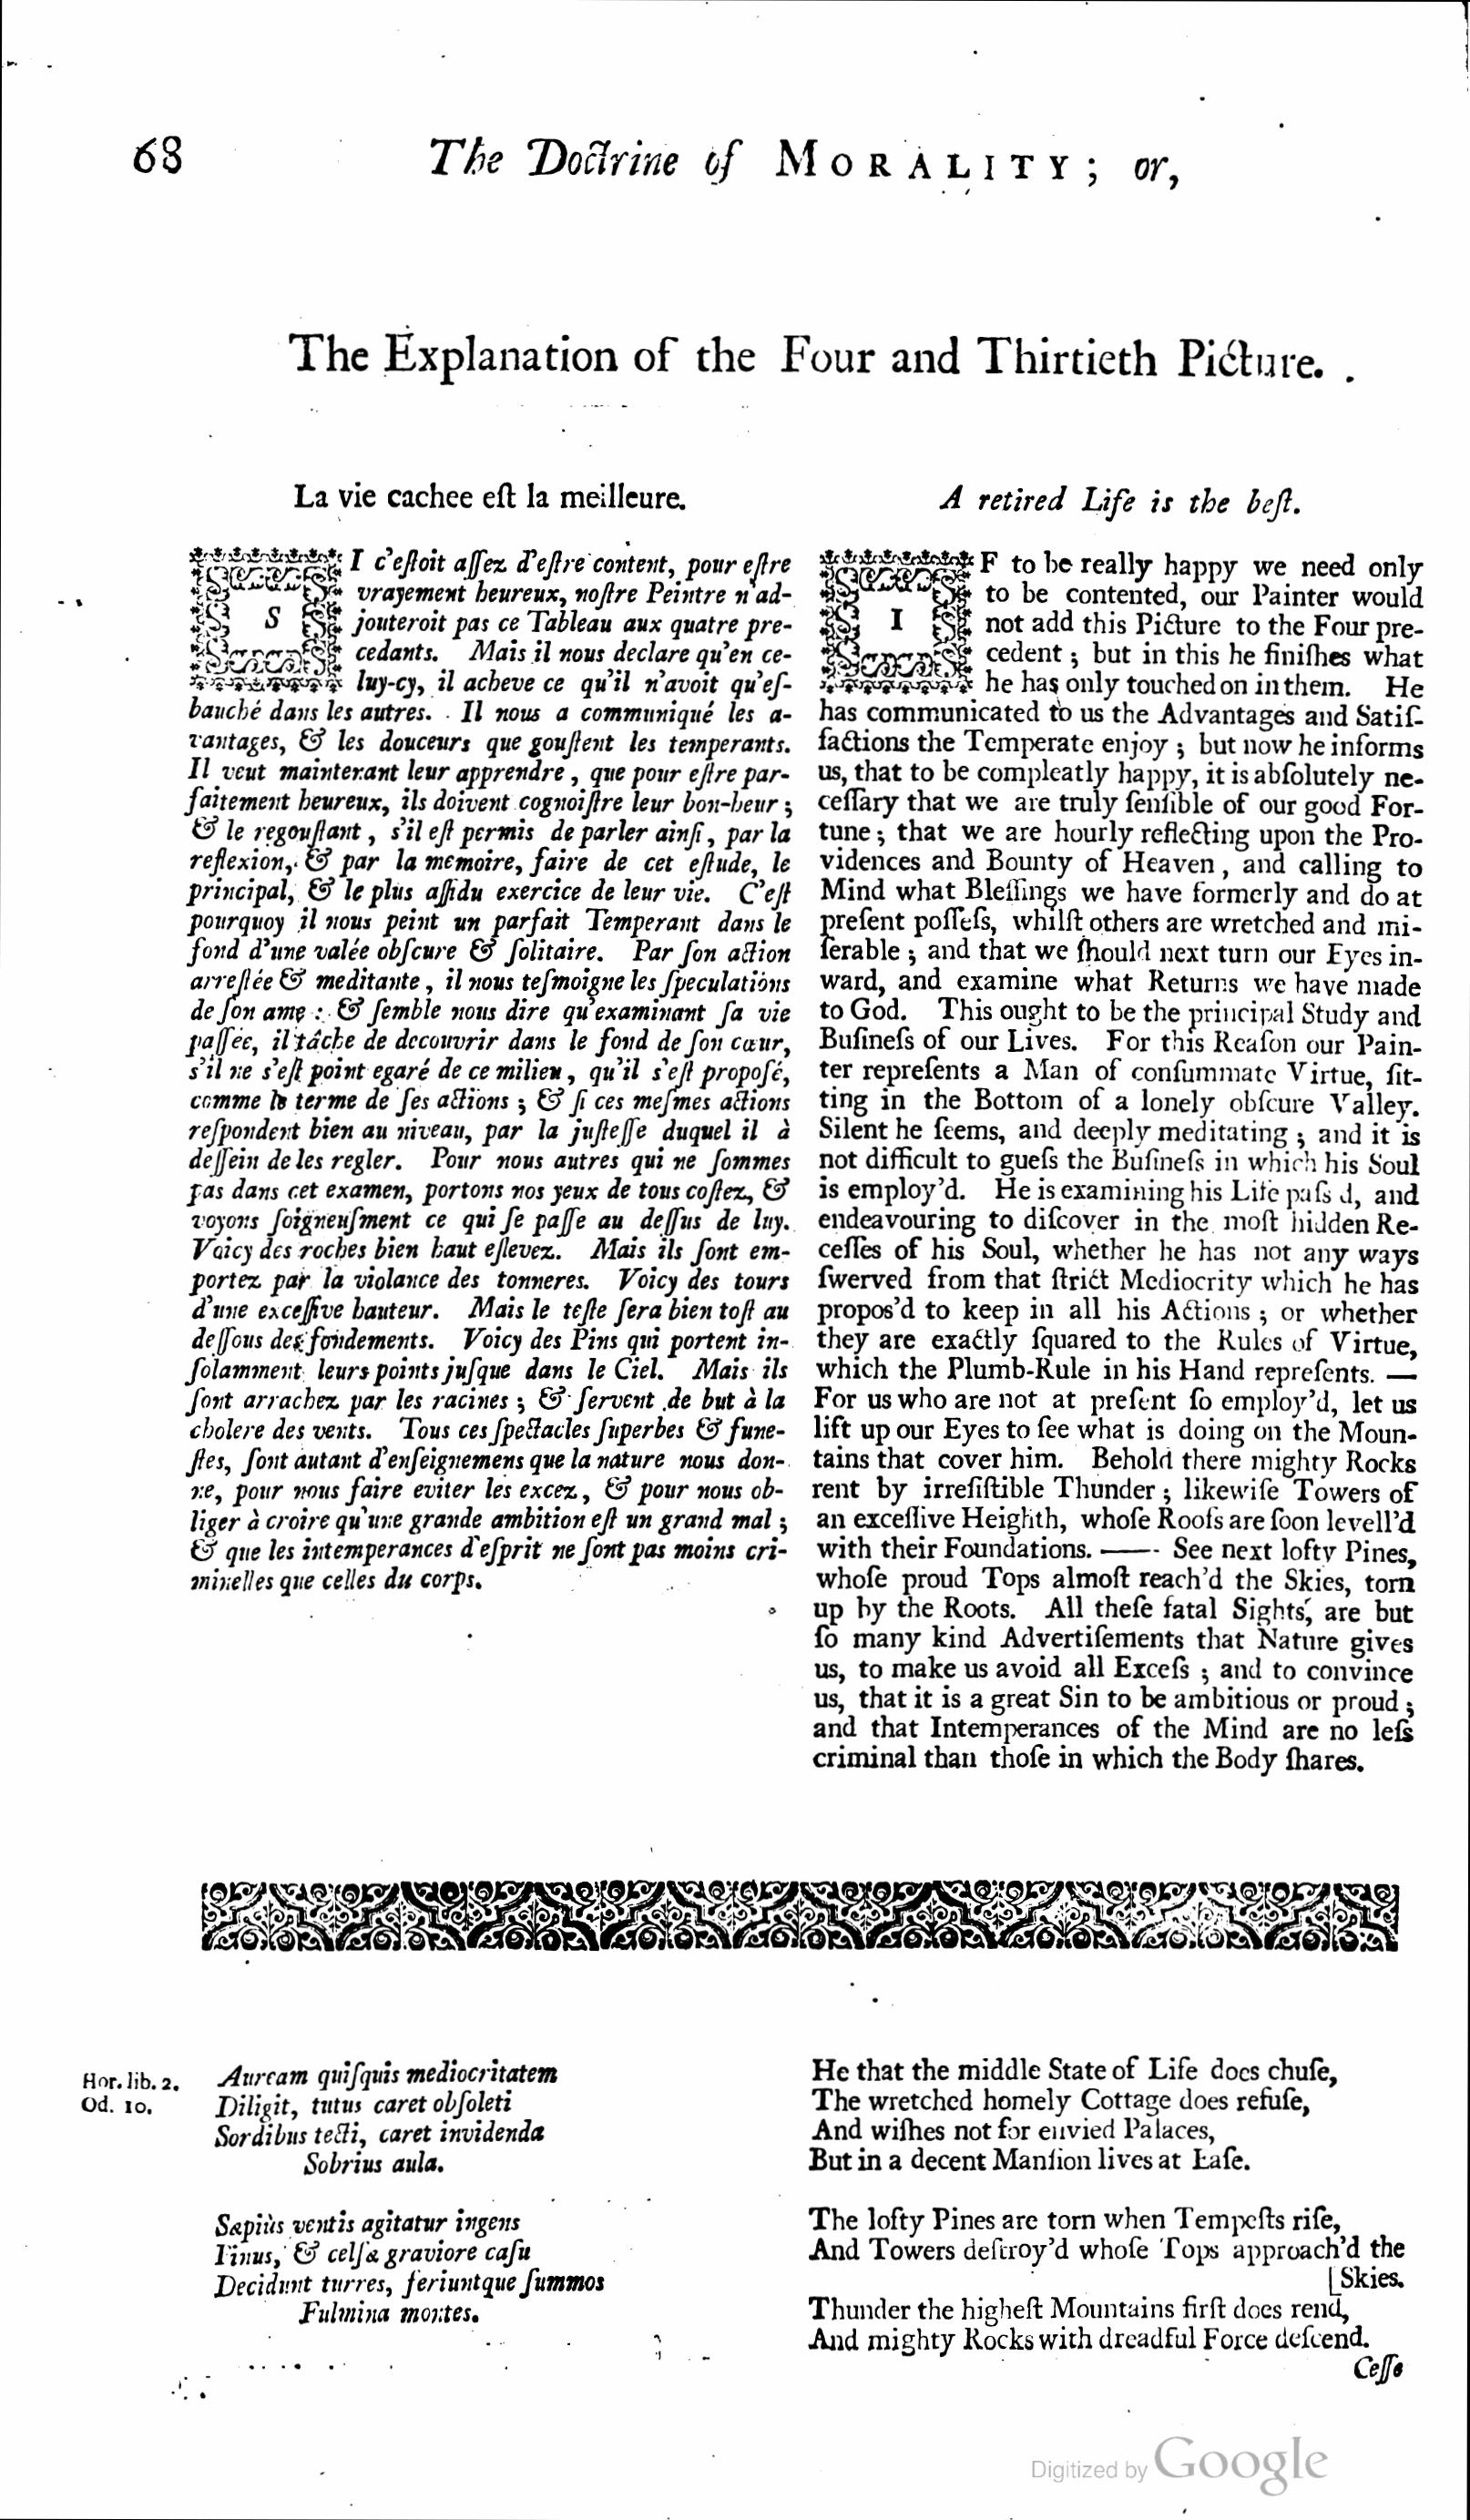catchword: (1346, 2350, 1410, 2383)
full_p: (809, 542, 1421, 1780), (180, 542, 794, 1596), (805, 2198, 1412, 2348), (285, 320, 1358, 388), (812, 2042, 1342, 2177), (212, 2207, 609, 2327), (213, 2056, 560, 2179), (938, 479, 1302, 523), (292, 476, 690, 514)
header: (425, 126, 1185, 194)
initial_l: (805, 542, 980, 700), (180, 537, 345, 698)
page_num: (135, 126, 187, 177)
print_marg: (79, 2065, 184, 2119)
viz: (194, 1872, 1409, 1960)
